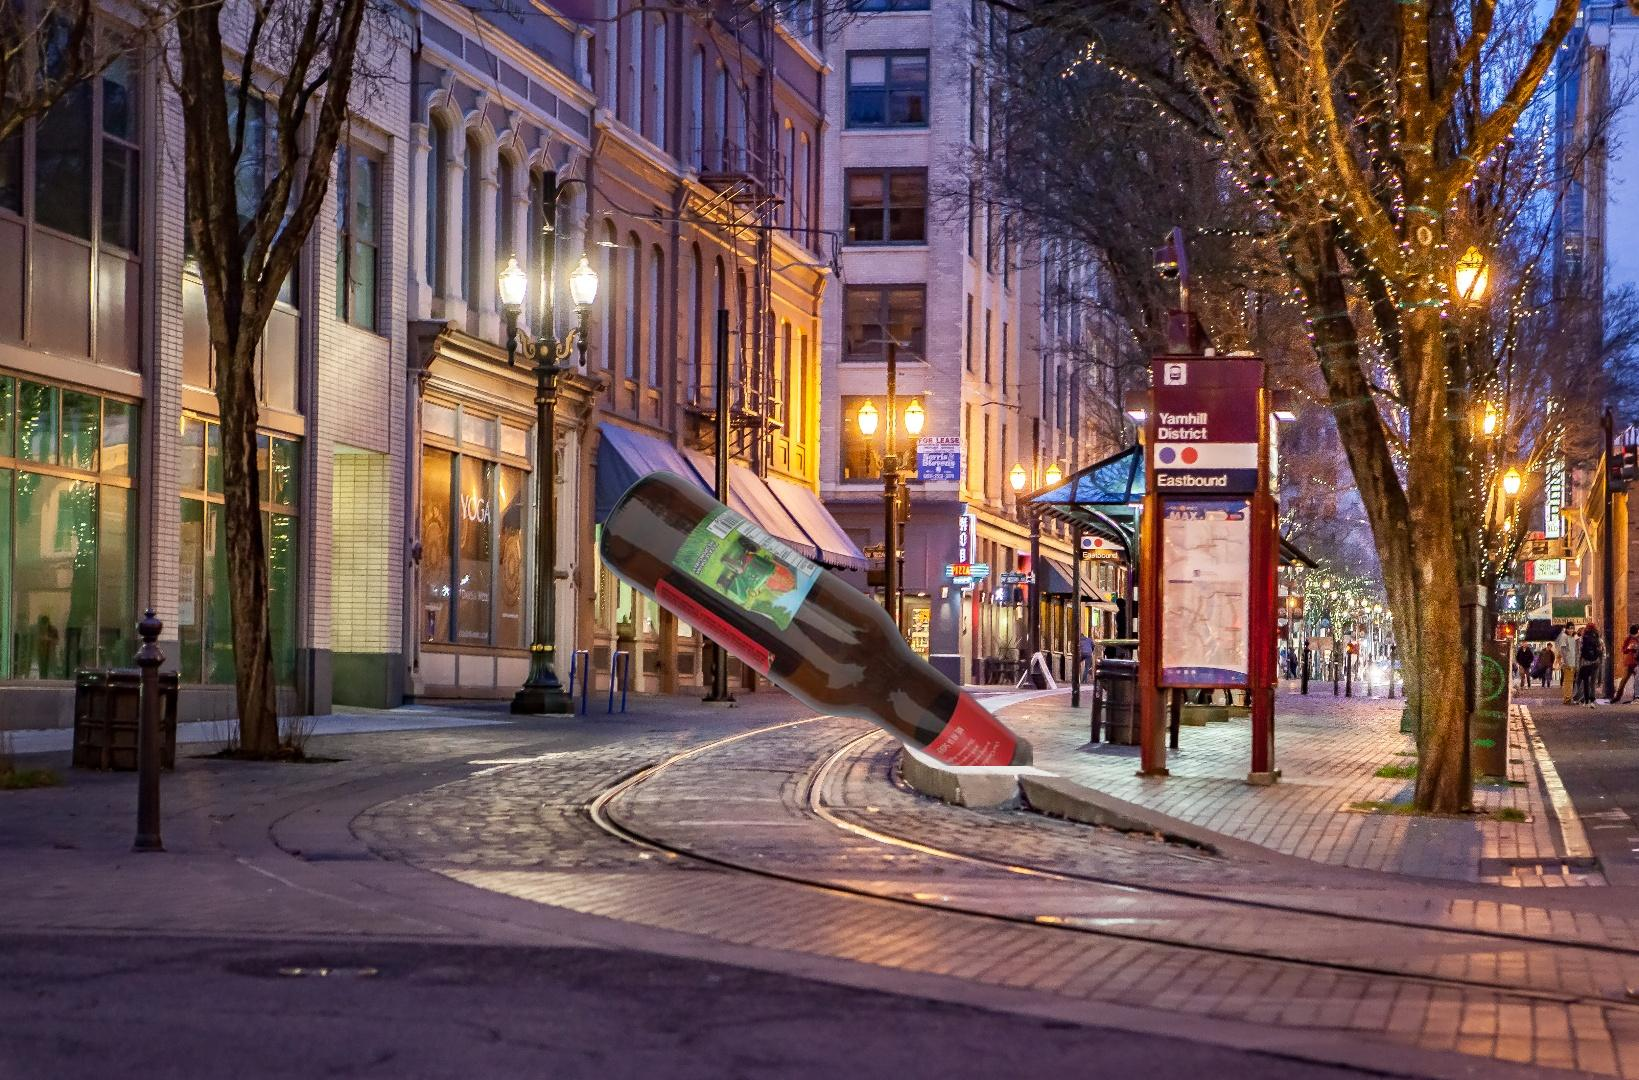glass: (521, 466, 1033, 765)
